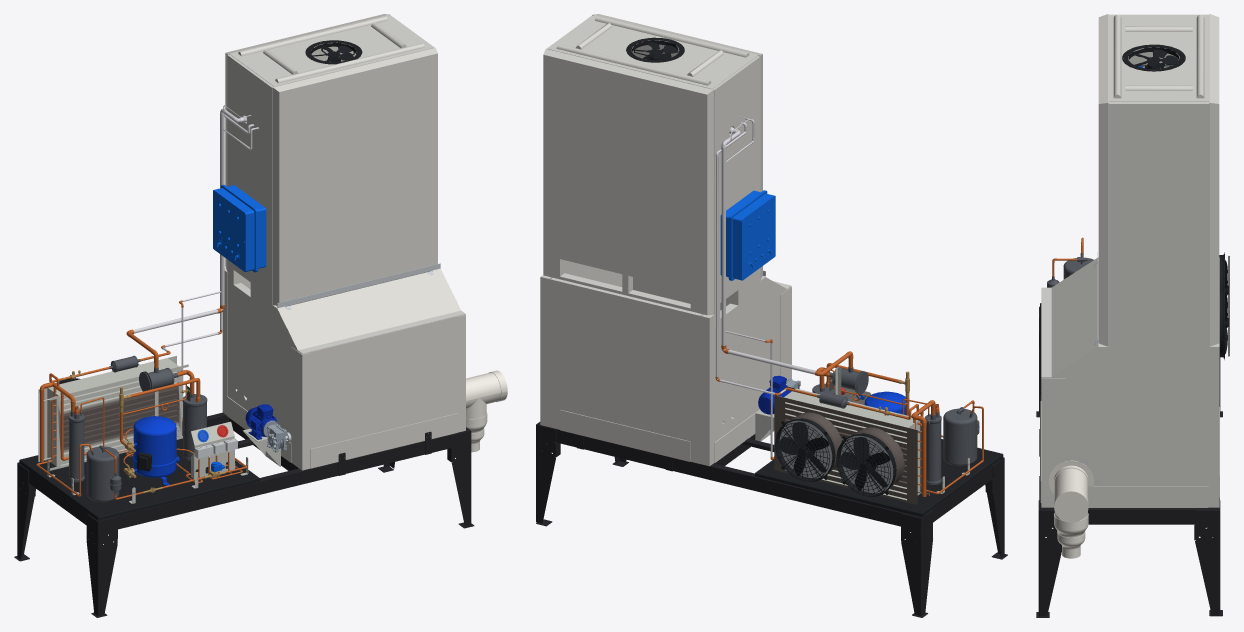
The picture shows the model from 3 angles, left to right: view 1: azimuth 30°, elevation 25°; view 2: azimuth 150°, elevation 25°; view 3: azimuth 270°, elevation 25°; orthographic projection. The views are drawn at different scales.
Bounding box in the file's own units: 3.23 × 3.39 × 1.15.
